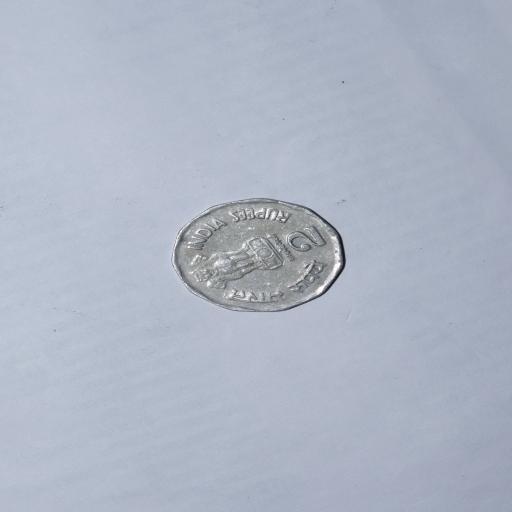rupee2: (167, 195, 350, 315)
